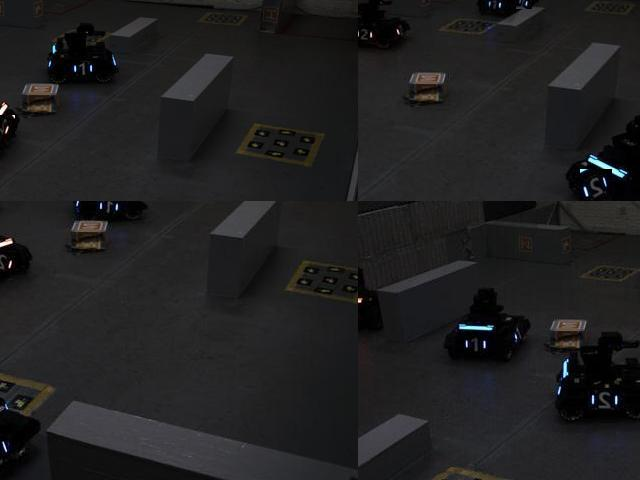armor: (580, 169, 614, 200), (588, 389, 625, 414), (461, 334, 488, 357), (0, 435, 13, 477), (96, 201, 126, 218), (70, 60, 99, 76), (0, 115, 17, 140), (0, 251, 18, 273), (358, 24, 376, 44), (486, 0, 505, 13), (516, 0, 534, 11)
